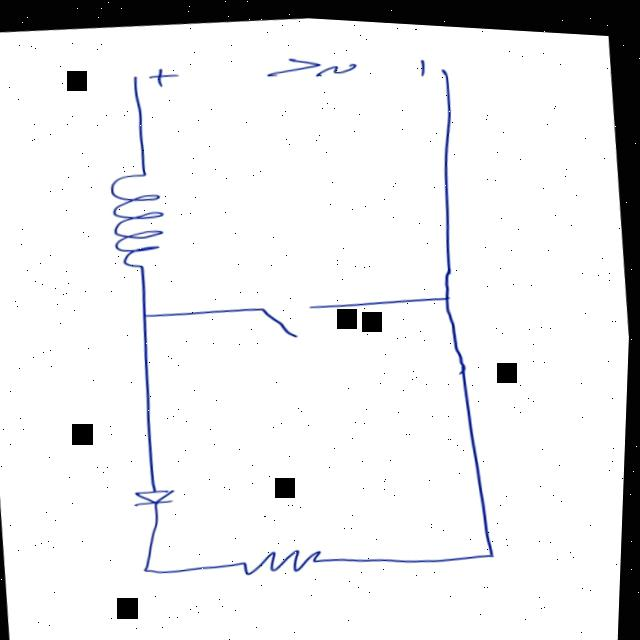diode: (122, 463, 183, 525)
inductor: (93, 154, 194, 282)
resistor: (225, 530, 345, 585)
switch: (210, 273, 397, 356)
